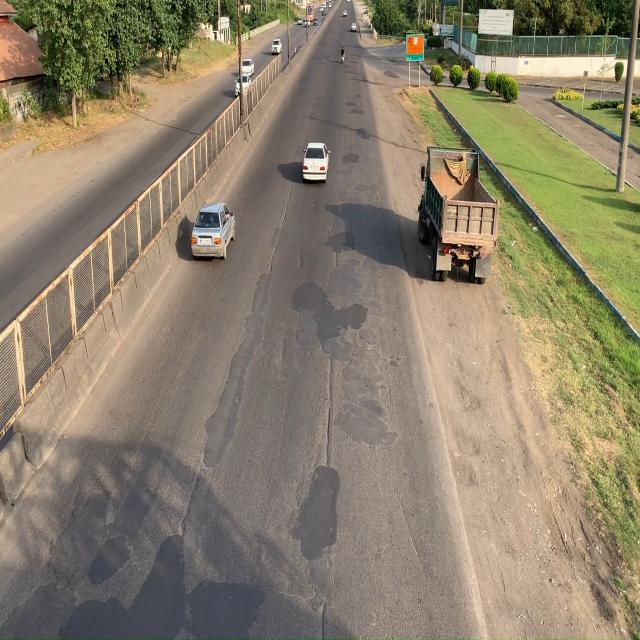Truck: (411, 150, 494, 290)
cars: (191, 204, 235, 256), (304, 143, 328, 180)
